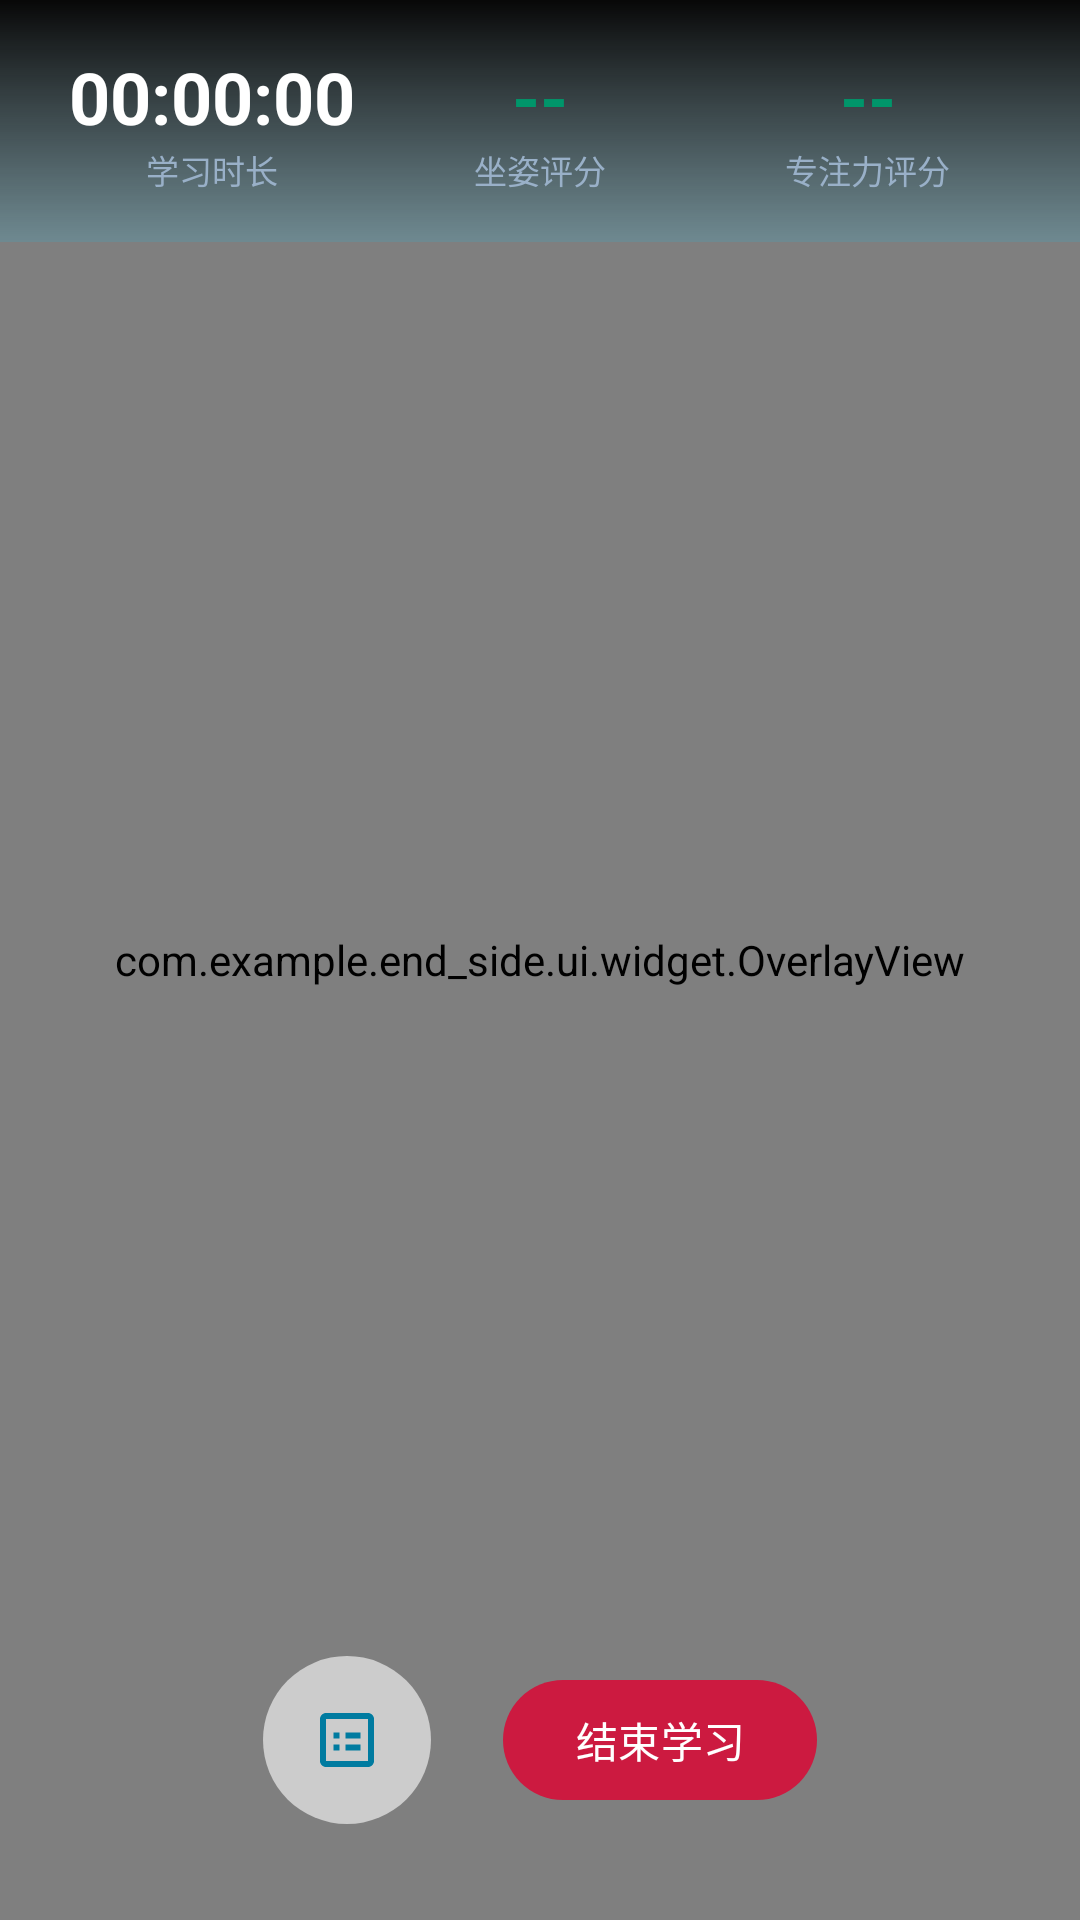

Icon bounding boxes for this 1080×1920 phone screenshot, format bbox=[x1, y1, x2, y2]:
文字识别: bbox=[263, 1656, 431, 1824]
